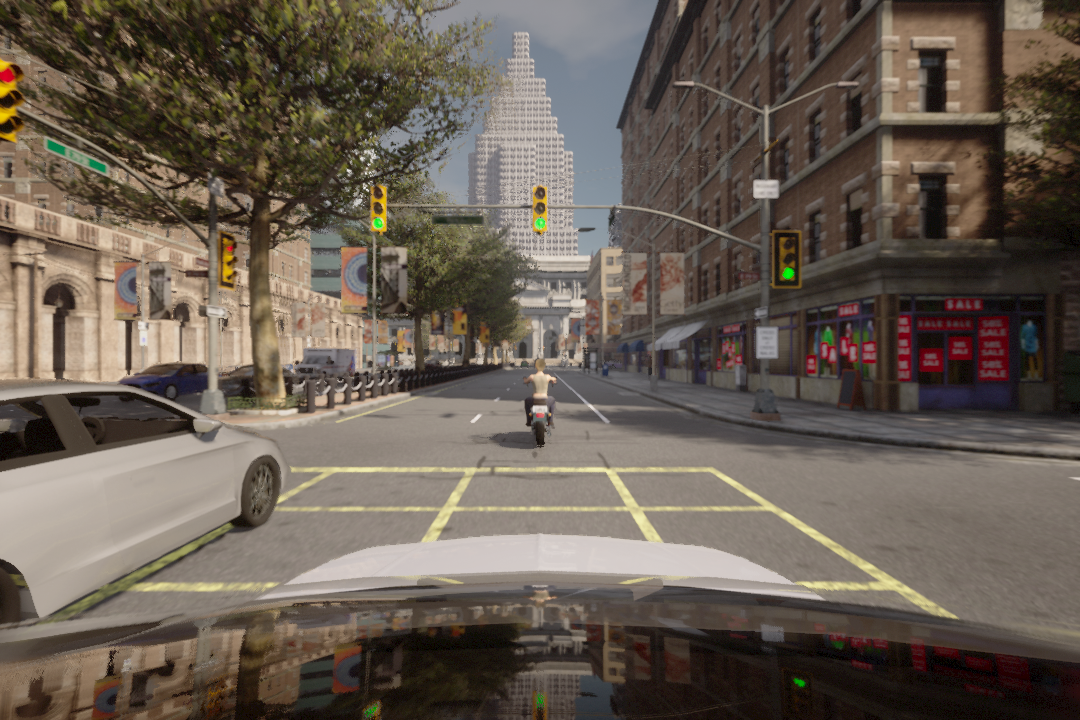TrafficLight: (1, 59, 19, 157), (772, 232, 803, 287), (365, 182, 390, 231), (219, 232, 239, 289), (531, 184, 549, 234)
